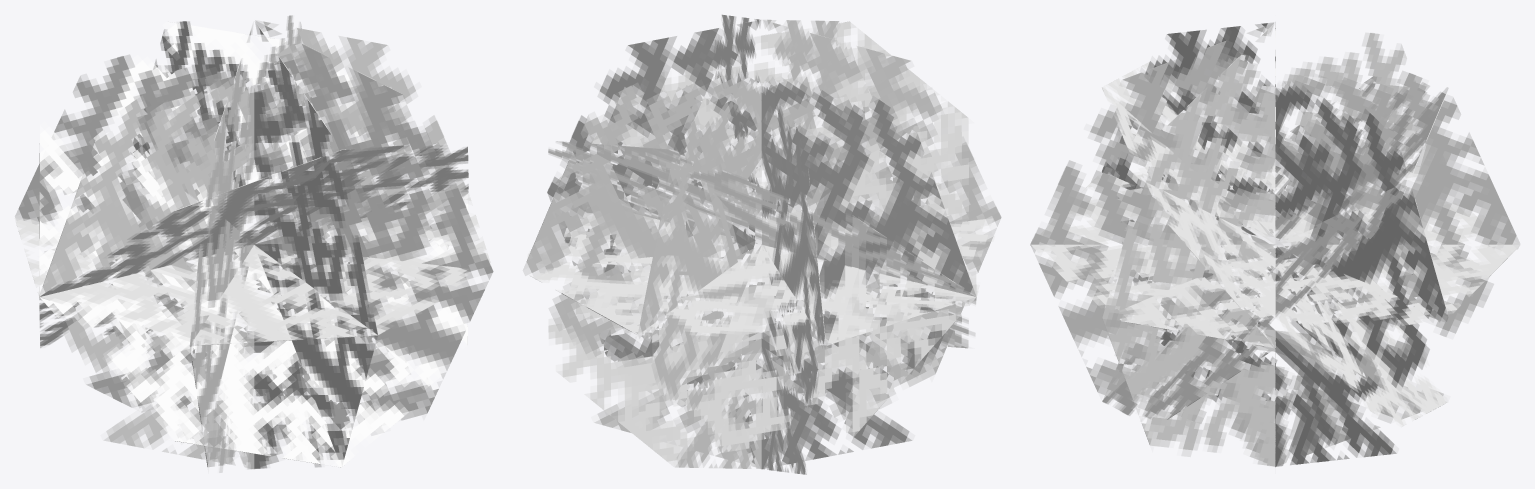
The model's file is capitana.glb.
3 views of the same model, side by side, from view 1: azimuth 30°, elevation 25°; view 2: azimuth 150°, elevation 25°; view 3: azimuth 270°, elevation 25° (orthographic).
Visible parts, largest first — view 1: Cylinder.006; view 2: Cylinder.006; view 3: Cylinder.006.
Boxes of the visible parts, <box> form: Cylinder.006: <box>15,15,493,472</box>; Cylinder.006: <box>523,14,1001,474</box>; Cylinder.006: <box>1030,22,1520,467</box>.
Bounding box in the file's own units: 1 × 1 × 1.
1 material, 1 textured.
